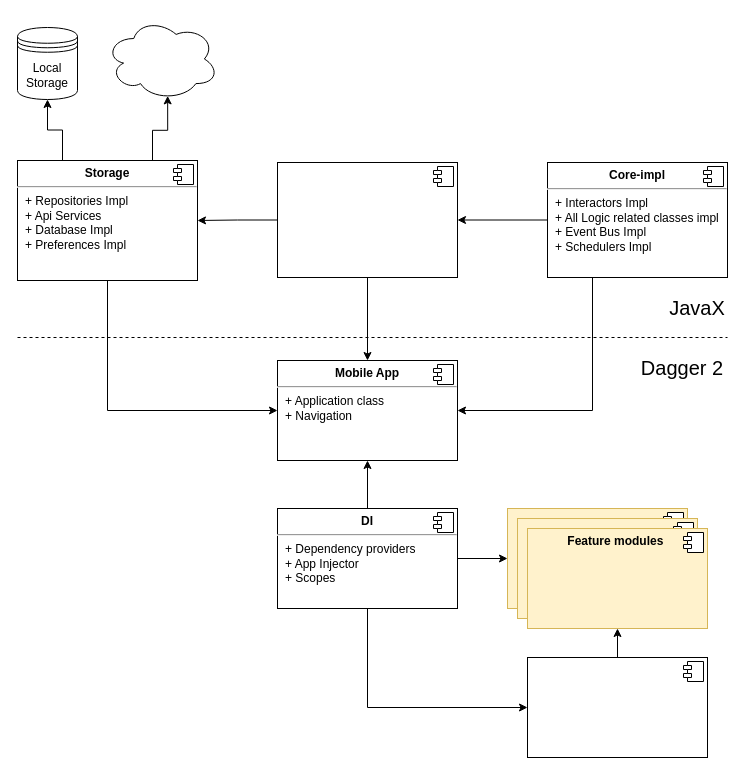
Some shapes in this 746 by 775 pixel diagram are drawn without their labels. Here are the shapes that lost their labels. From the top down, the box of each, then its label:
(104, 17, 218, 100): Network Services
(276, 162, 458, 278): Core + Interactors + Repositories + Entities + Extensions + Schedulers
(526, 656, 708, 758): Core-UI + Base Classes + Permissions + Common Views
